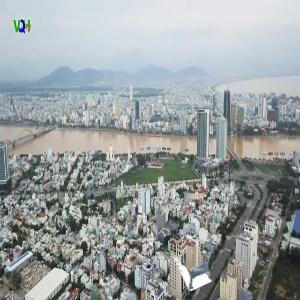drone: (178, 241, 223, 286)
